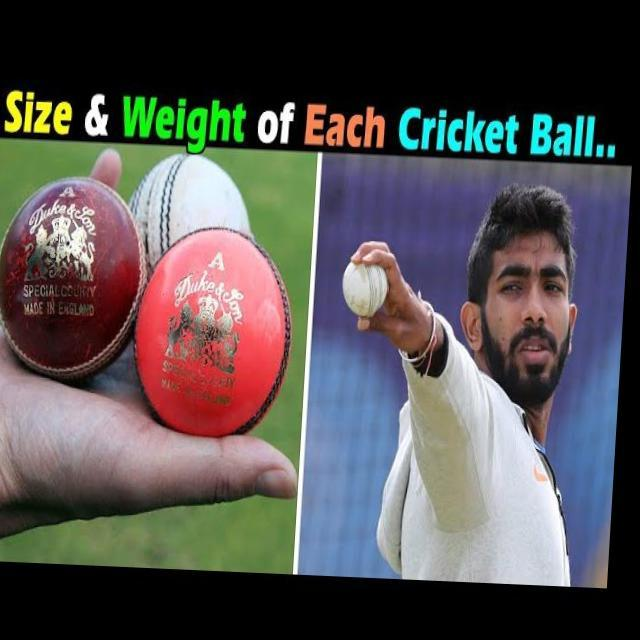cricket ball: (137, 226, 298, 435), (0, 175, 150, 380), (132, 152, 255, 269), (346, 258, 392, 316)
